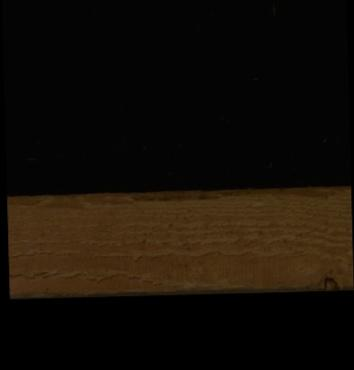edge_knot: (319, 274, 341, 290)
wave: (6, 187, 350, 201)
